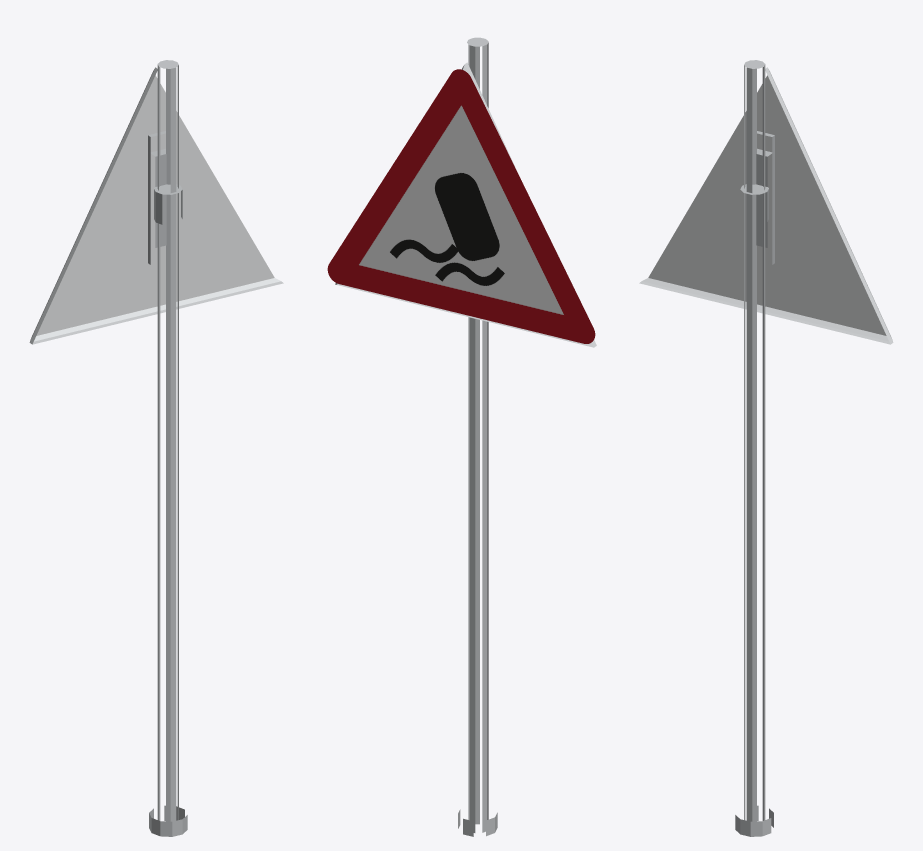
The model's file is sign_slippery.glb.
3 views of the same model, side by side, from view 1: azimuth 30°, elevation 25°; view 2: azimuth 150°, elevation 25°; view 3: azimuth 330°, elevation 25° (orthographic). The views are drawn at different scales.
Visible parts, largest first — view 1: sign_slippery; view 2: sign_slippery; view 3: sign_slippery.
Boxes of the visible parts, <box> form: sign_slippery: <box>29,60,283,836</box>; sign_slippery: <box>327,37,596,836</box>; sign_slippery: <box>639,60,893,836</box>.
Size of the model in its own units: 0.95 by 2.53 by 0.1488.
Materials: 5 (1 with a texture image).
